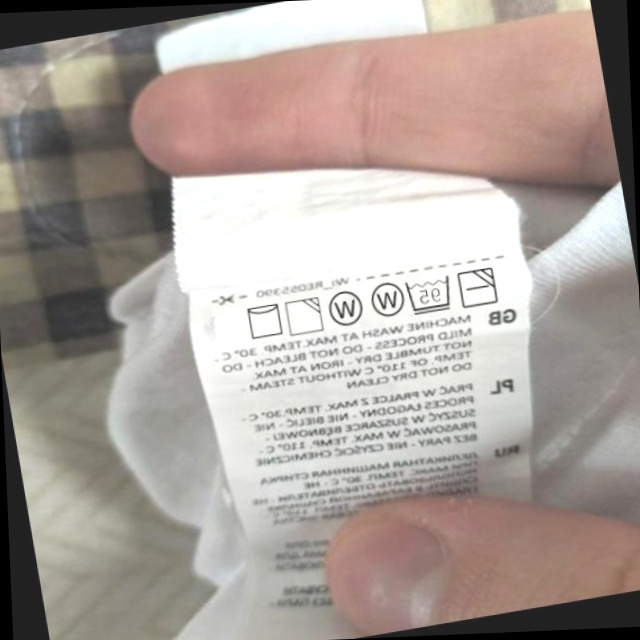95C: (402, 271, 456, 317)
dry_flat_in_shade: (455, 263, 501, 311)
line_dry: (241, 298, 286, 343)
shade_dry: (282, 293, 326, 339)
wet_clean: (324, 287, 367, 332), (365, 276, 407, 322)
